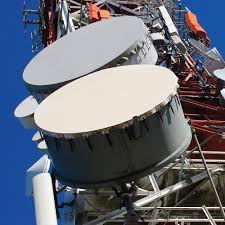ba: (31, 69, 197, 186)
